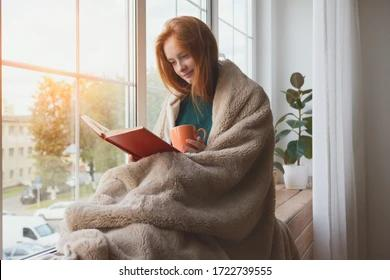blanket: (28, 58, 301, 262)
